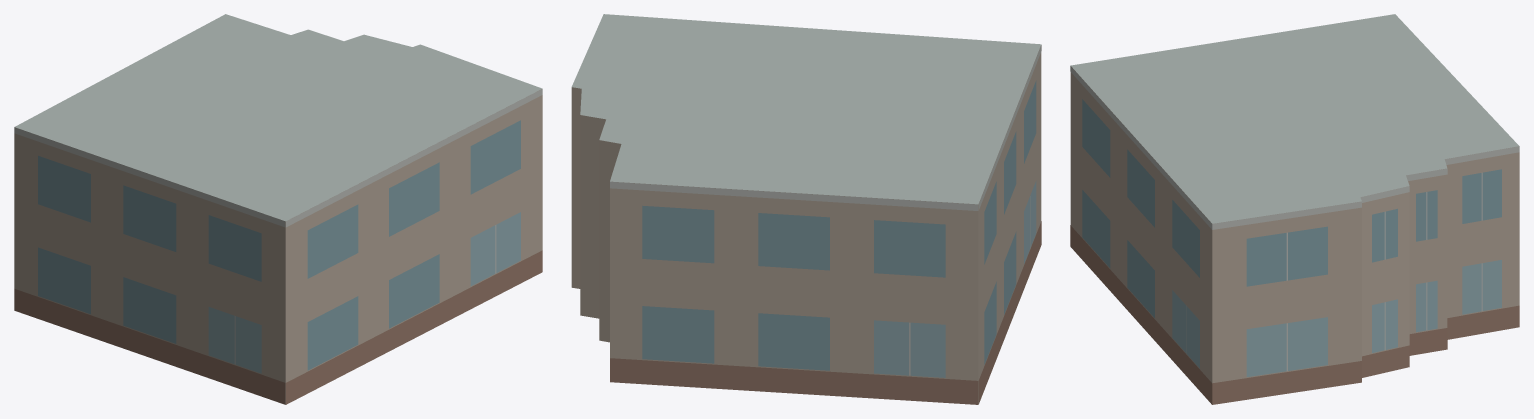
Rendered from survey-upis-32896088.glb.
3 views of the same model, side by side, from view 1: azimuth 30°, elevation 25°; view 2: azimuth 150°, elevation 25°; view 3: azimuth 270°, elevation 25° (orthographic). The views are drawn at different scales.
Visible parts, largest first — view 1: survey-upis-32896088.tmp; view 2: survey-upis-32896088.tmp; view 3: survey-upis-32896088.tmp.
Part boxes in pixels (bbox=[...]): survey-upis-32896088.tmp: bbox=[14, 14, 542, 404]; survey-upis-32896088.tmp: bbox=[571, 14, 1041, 404]; survey-upis-32896088.tmp: bbox=[1070, 14, 1519, 404].
Bounding box in the file's own units: 17.9 × 7.2 × 16.19.
